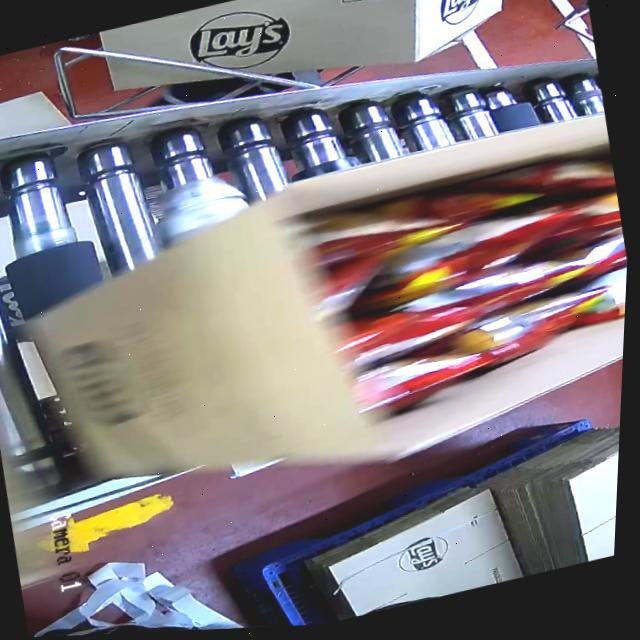MASALA: (290, 137, 633, 409)
